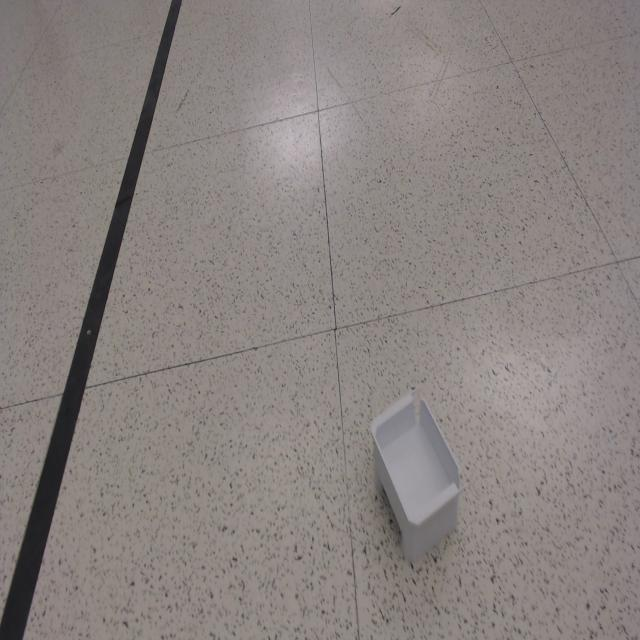wbox: (369, 387, 462, 565)
